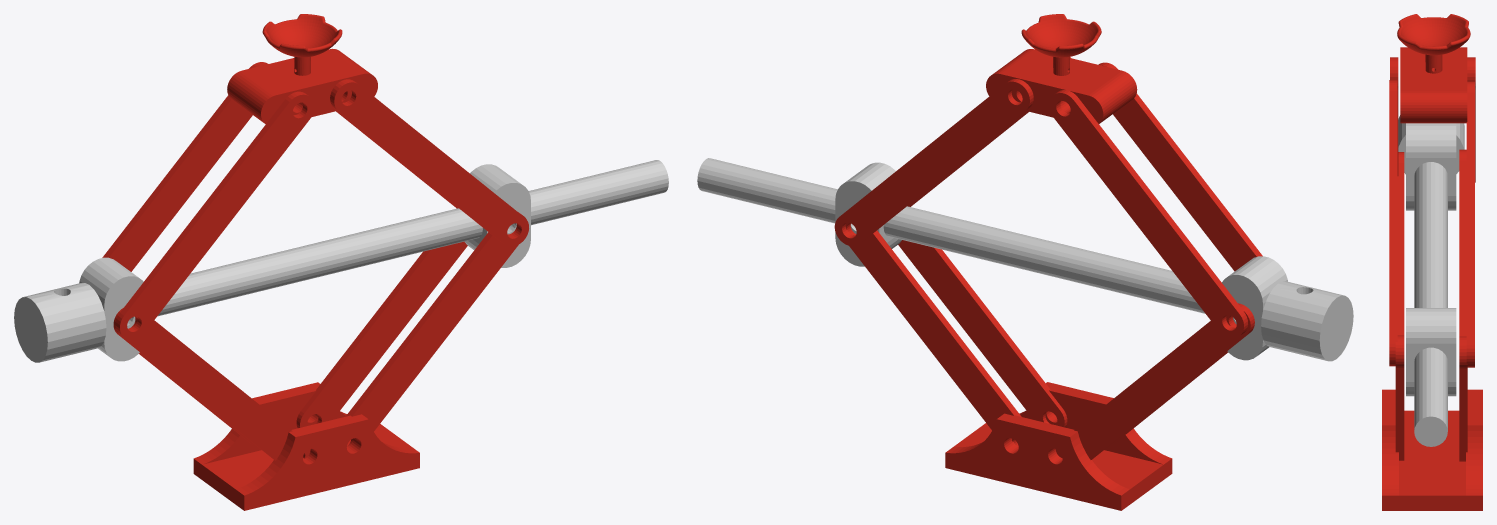
File: CarJack.fbx
3 renders of one model, left to right at view 1: azimuth 30°, elevation 25°; view 2: azimuth 150°, elevation 25°; view 3: azimuth 270°, elevation 25°, orthographic.
Parts seen in each view (by area): view 1: Screw rod, Base, Link.007, TopSupport, Link.006, Link.001, Link, Link.005, Link.002, Support.001, Support; view 2: Screw rod, Base, Link.005, TopSupport, Link.004, Link, Link.001, Link.003, Link.007, Support.001, Support; view 3: Base, Screw rod, TopSupport, Support, Support.001, Link.004, Link.006, Link.003, Link.002, Link.001, Link, Link.007 (+1 smaller).
Boxes of the visible parts, <box> form: Screw rod: <box>14,160,668,362</box>; Base: <box>193,382,419,510</box>; Link.007: <box>115,91,314,339</box>; TopSupport: <box>227,14,377,124</box>; Link.006: <box>330,79,528,246</box>; Link.001: <box>346,212,525,446</box>; Link: <box>296,208,467,428</box>; Link.005: <box>102,62,267,271</box>; Link.002: <box>113,308,310,460</box>; Support.001: <box>79,257,143,361</box>; Support: <box>464,164,530,267</box>; Screw rod: <box>697,158,1353,361</box>; Base: <box>945,382,1172,510</box>; Link.005: <box>1049,90,1247,338</box>; TopSupport: <box>986,14,1137,123</box>; Link.004: <box>834,79,1033,246</box>; Link: <box>845,222,1021,446</box>; Link.001: <box>898,240,1067,427</box>; Link.003: <box>1055,303,1254,459</box>; Link.007: <box>1098,62,1262,271</box>; Support.001: <box>1222,256,1287,360</box>; Support: <box>835,162,901,266</box>; Base: <box>1382,389,1482,510</box>; Screw rod: <box>1398,115,1464,446</box>; TopSupport: <box>1397,14,1470,123</box>; Support: <box>1406,308,1456,396</box>; Support.001: <box>1406,123,1456,210</box>; Link.004: <box>1466,81,1474,367</box>; Link.006: <box>1389,80,1397,366</box>; Link.003: <box>1459,149,1466,336</box>; Link.002: <box>1397,152,1404,335</box>; Link.001: <box>1395,335,1404,460</box>; Link: <box>1459,336,1467,461</box>; Link.007: <box>1390,57,1398,175</box>.
Bounding box in the file's own units: 54.61 × 36.57 × 7.62.
